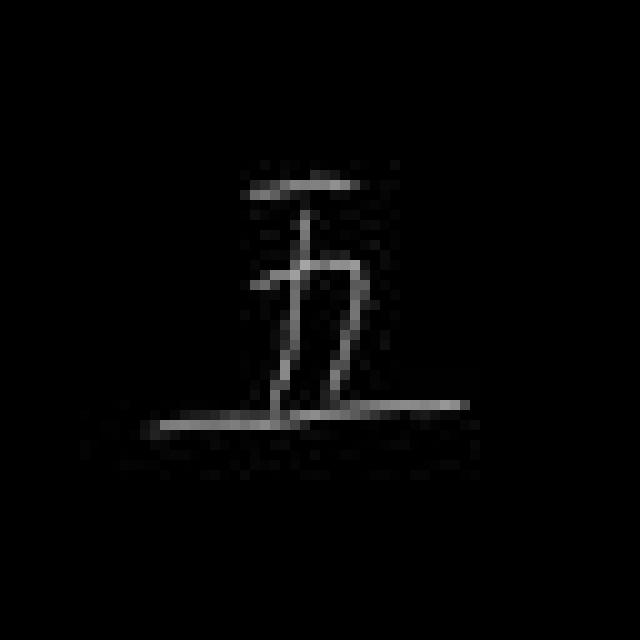5 -five-: (149, 175, 471, 436)
